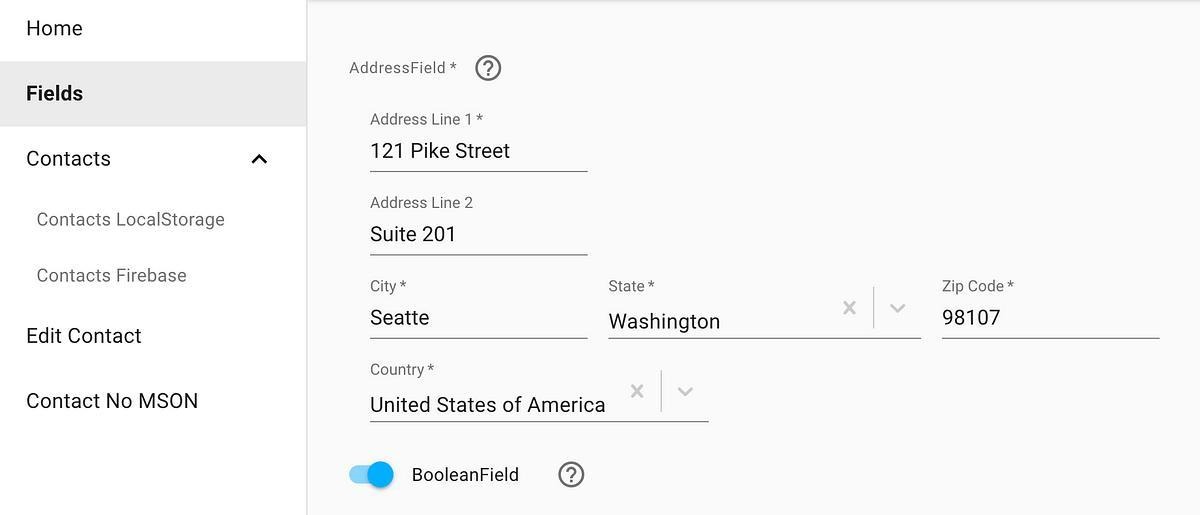icon: (841, 296, 862, 322), (628, 381, 646, 405), (566, 466, 582, 487), (484, 58, 497, 78)
label: (34, 208, 233, 234), (24, 390, 199, 411), (34, 267, 190, 287), (368, 109, 492, 129), (18, 12, 89, 46), (347, 57, 461, 78), (21, 77, 89, 109), (366, 191, 480, 210), (25, 328, 145, 346), (408, 466, 525, 484), (937, 276, 1020, 295), (369, 363, 438, 380), (607, 277, 660, 294), (366, 278, 410, 295)
switch: (351, 461, 397, 490)
